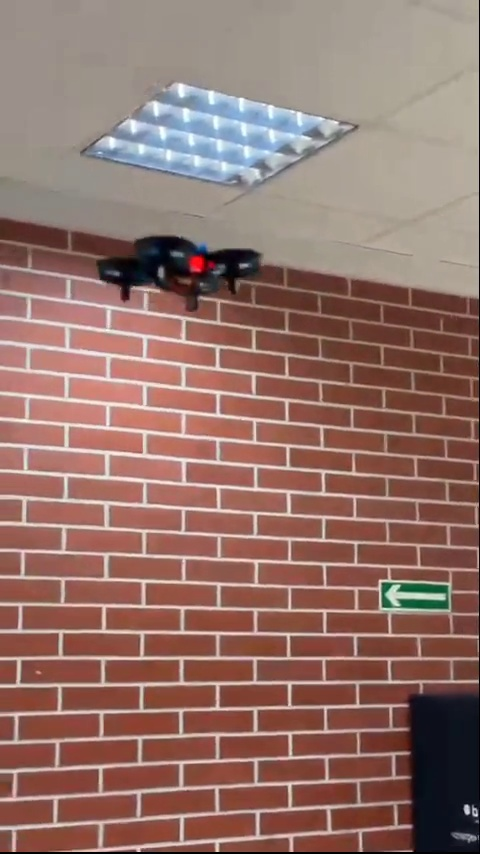drone: (97, 234, 266, 310)
